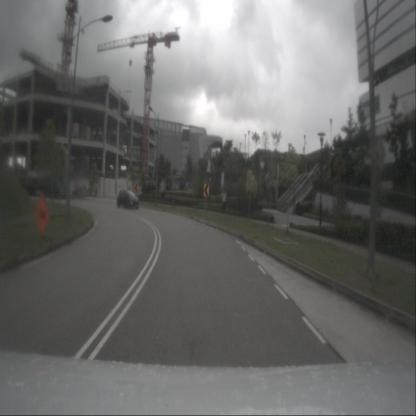human-pedestrian-adult: (221, 188, 227, 213)
vehicle-car: (117, 189, 139, 209)
vehicle-truck: (17, 167, 68, 200)
